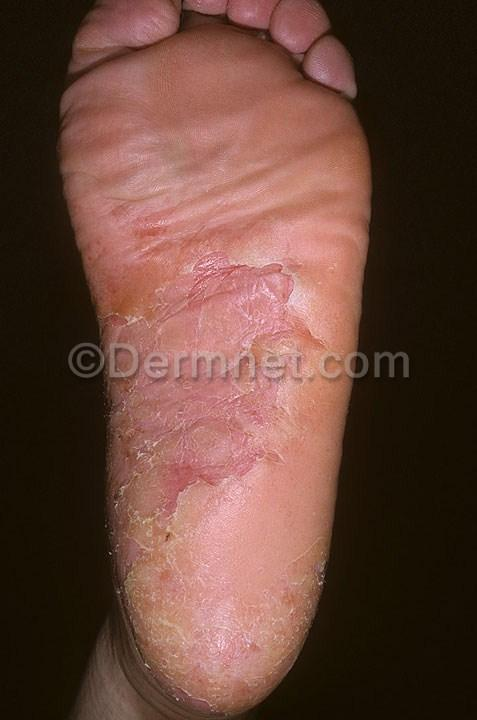Eczema: (75, 63, 294, 278), (109, 276, 292, 455), (117, 466, 257, 622), (285, 106, 383, 238), (190, 619, 277, 700)
